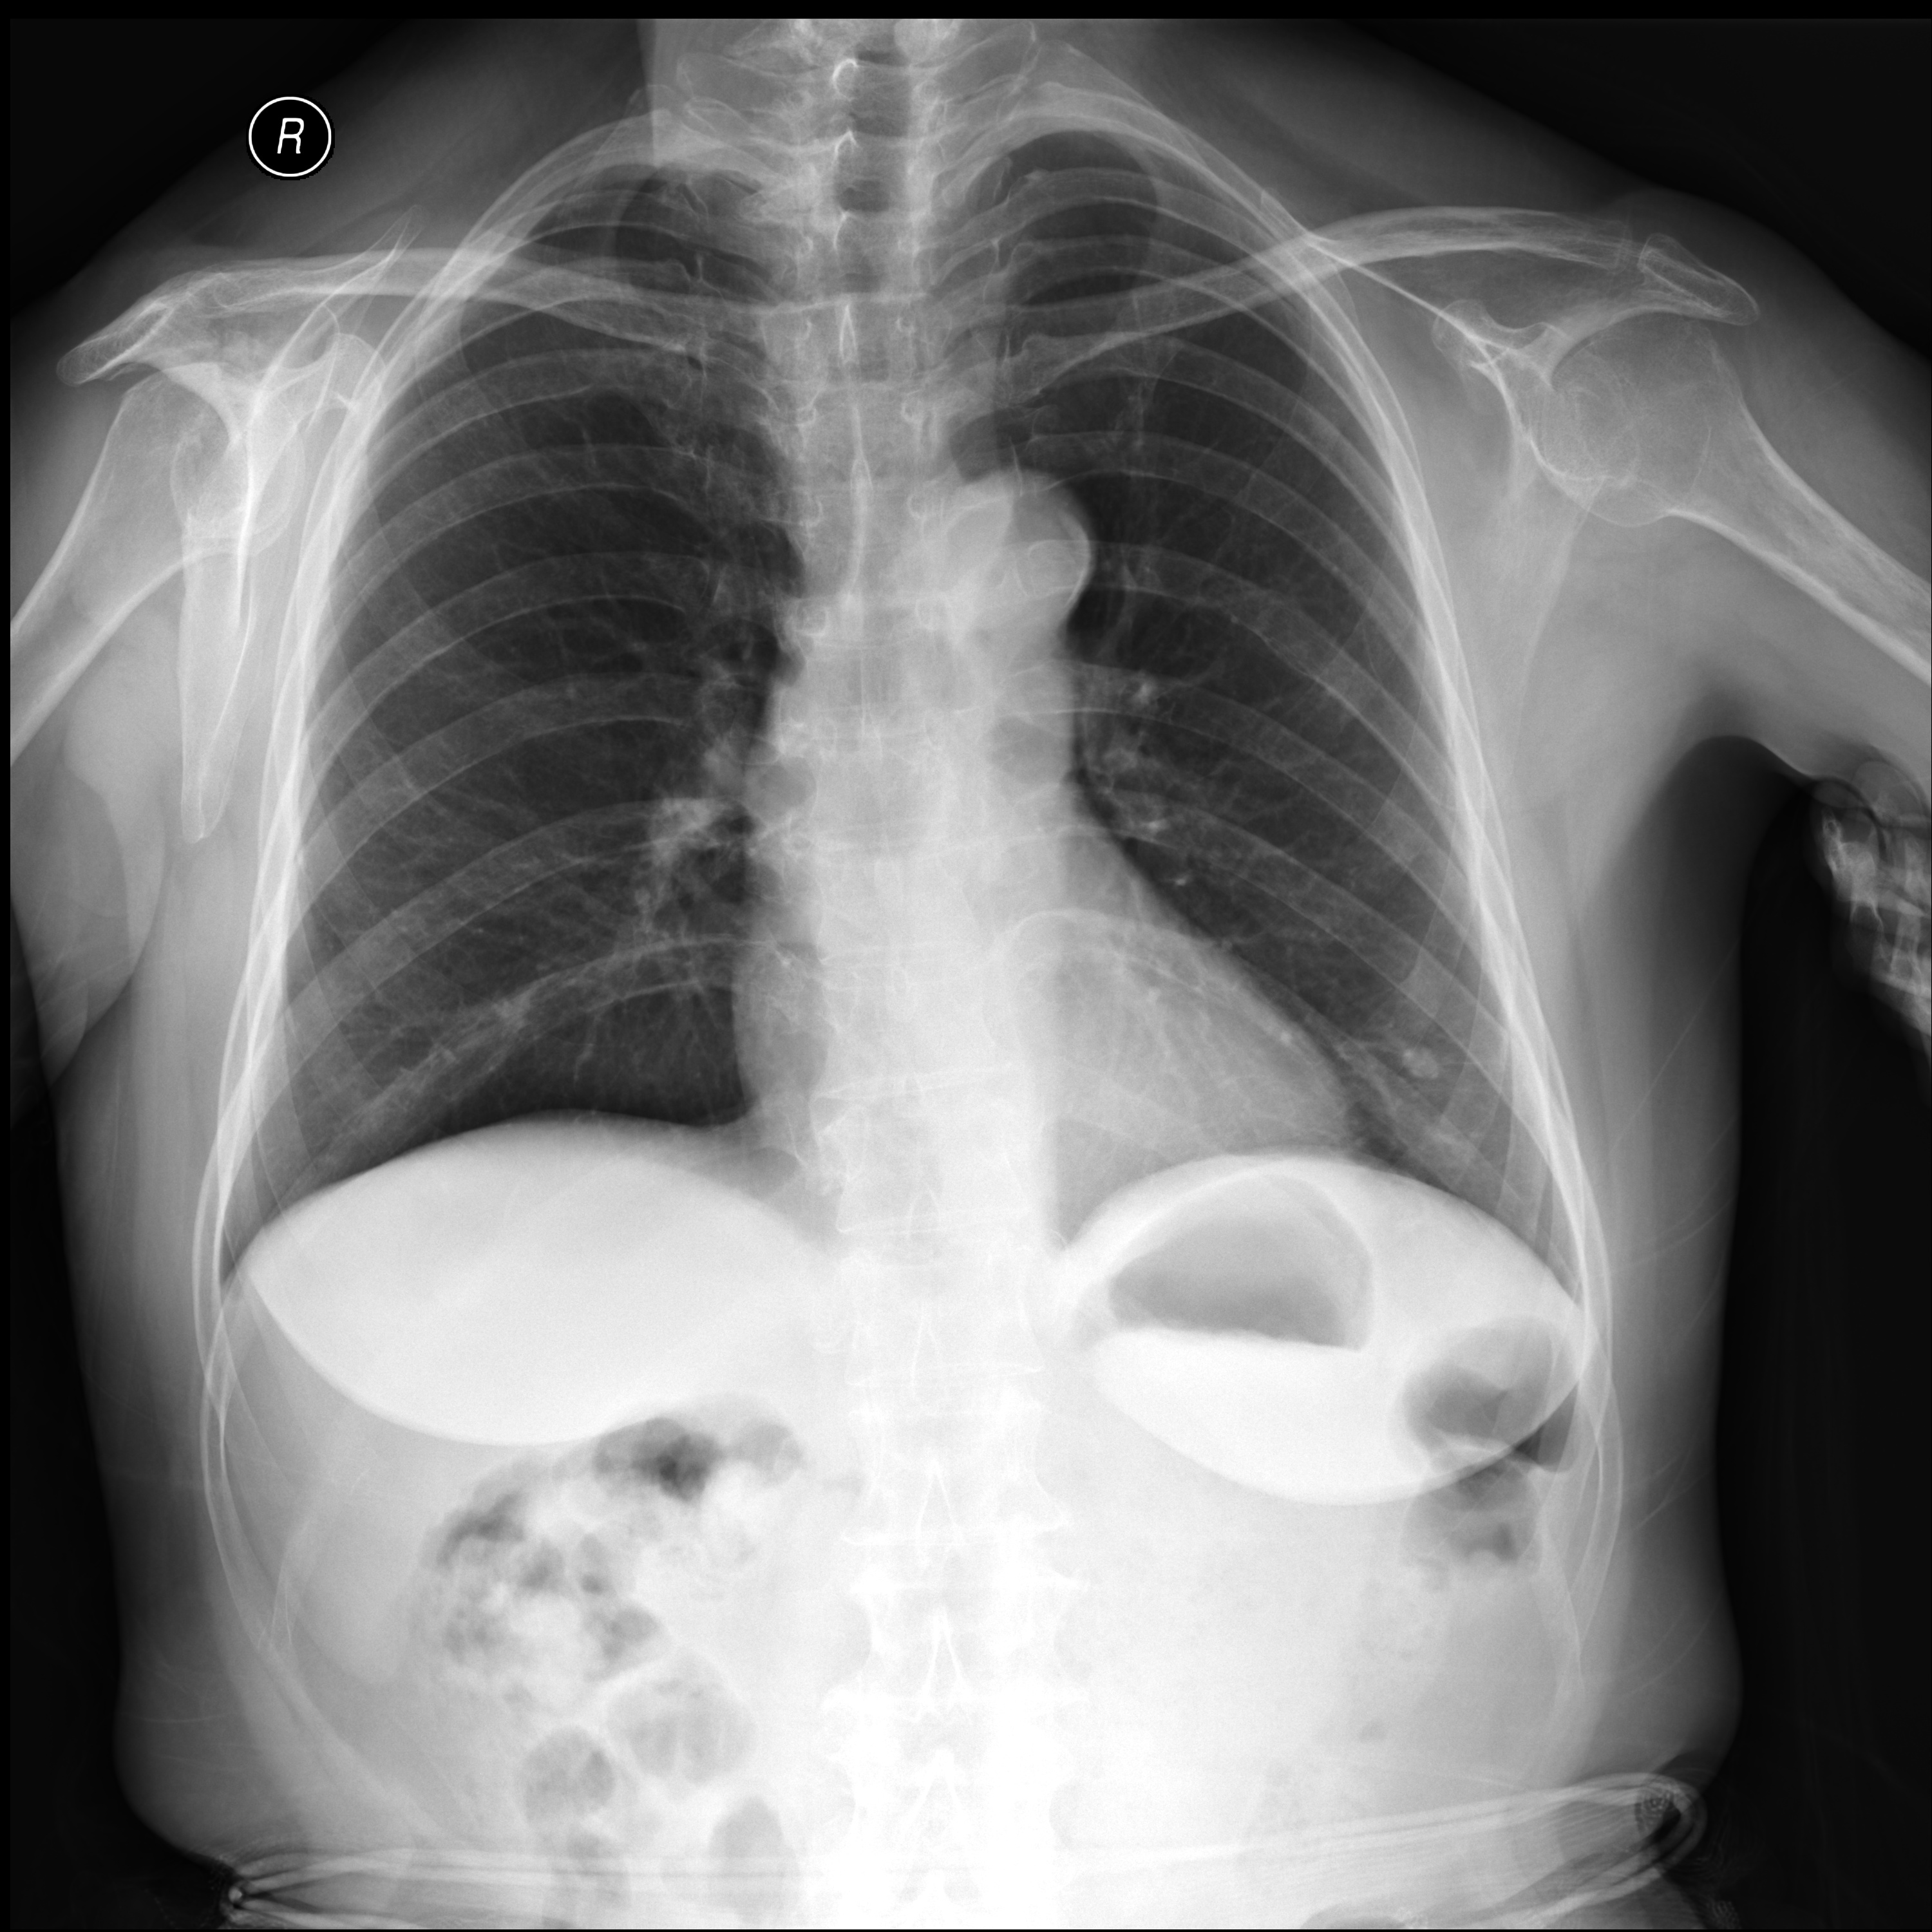nodule: (1366, 1007, 1476, 1116)
